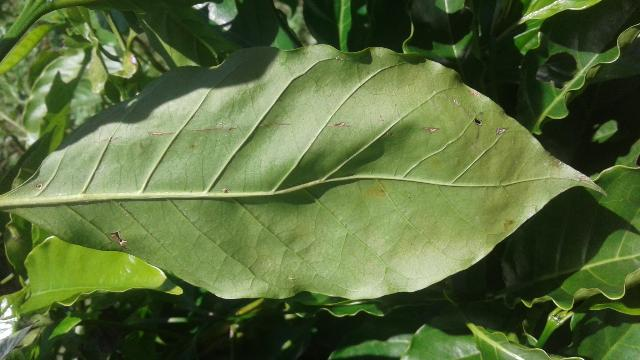rust_level_1: (1, 36, 620, 301)
